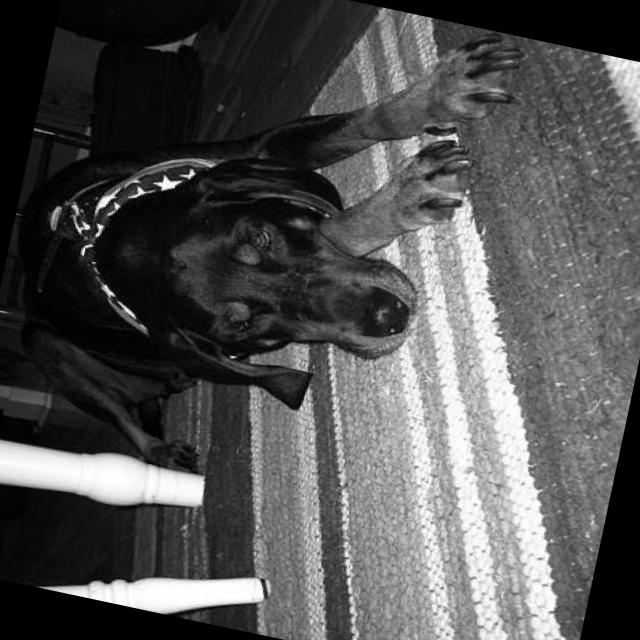laying down: (0, 0, 543, 530)
